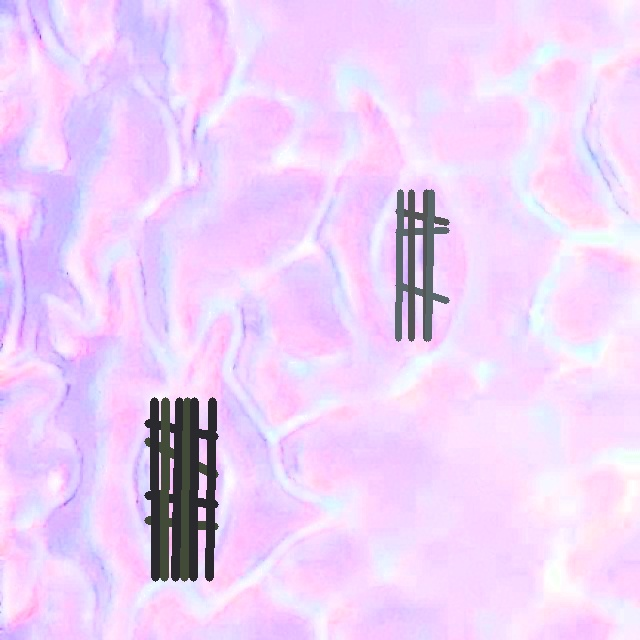open: (144, 397, 218, 581), (396, 190, 448, 341)
